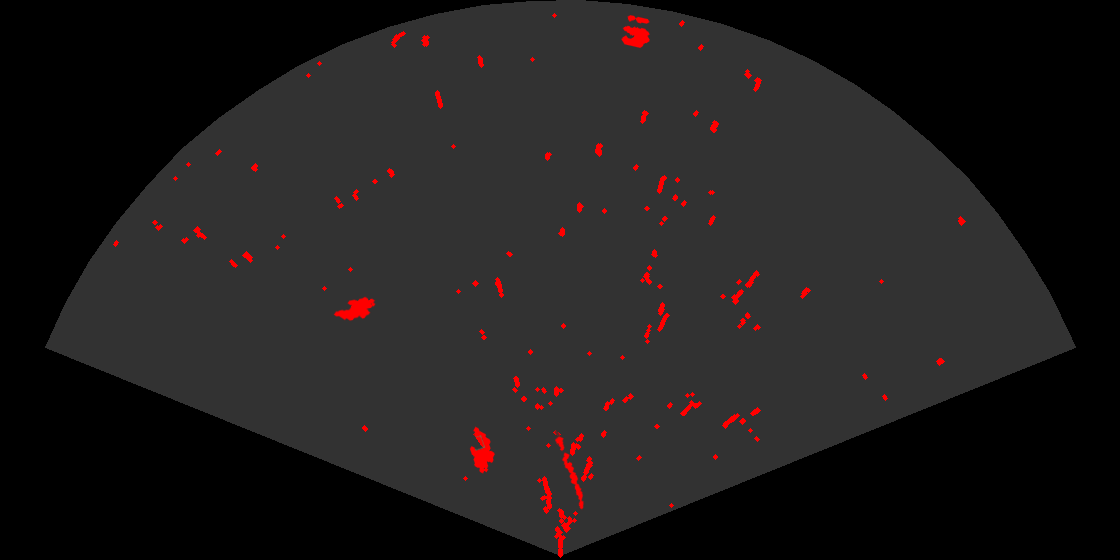AUV: (468, 425, 496, 475), (332, 295, 377, 323)
ball: (620, 14, 651, 50)
chain: (553, 430, 586, 512)
